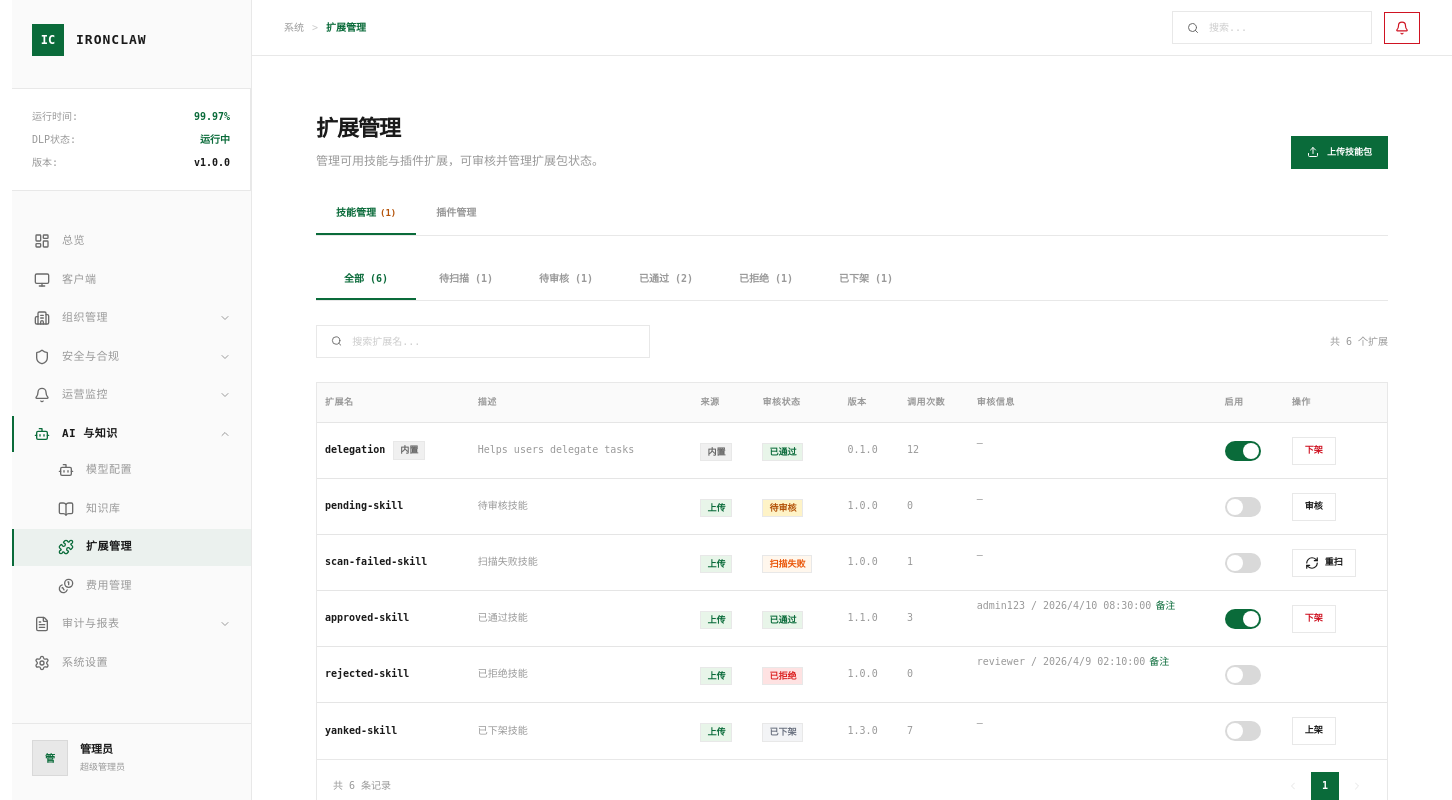
Scenario: 扩展管理 › 审核过滤 Tab › 待扫描过滤应仅显示 scanning/scan_failed 项
Click the button "待扫描 (1)": (466, 280) 416,260 -> 516,300
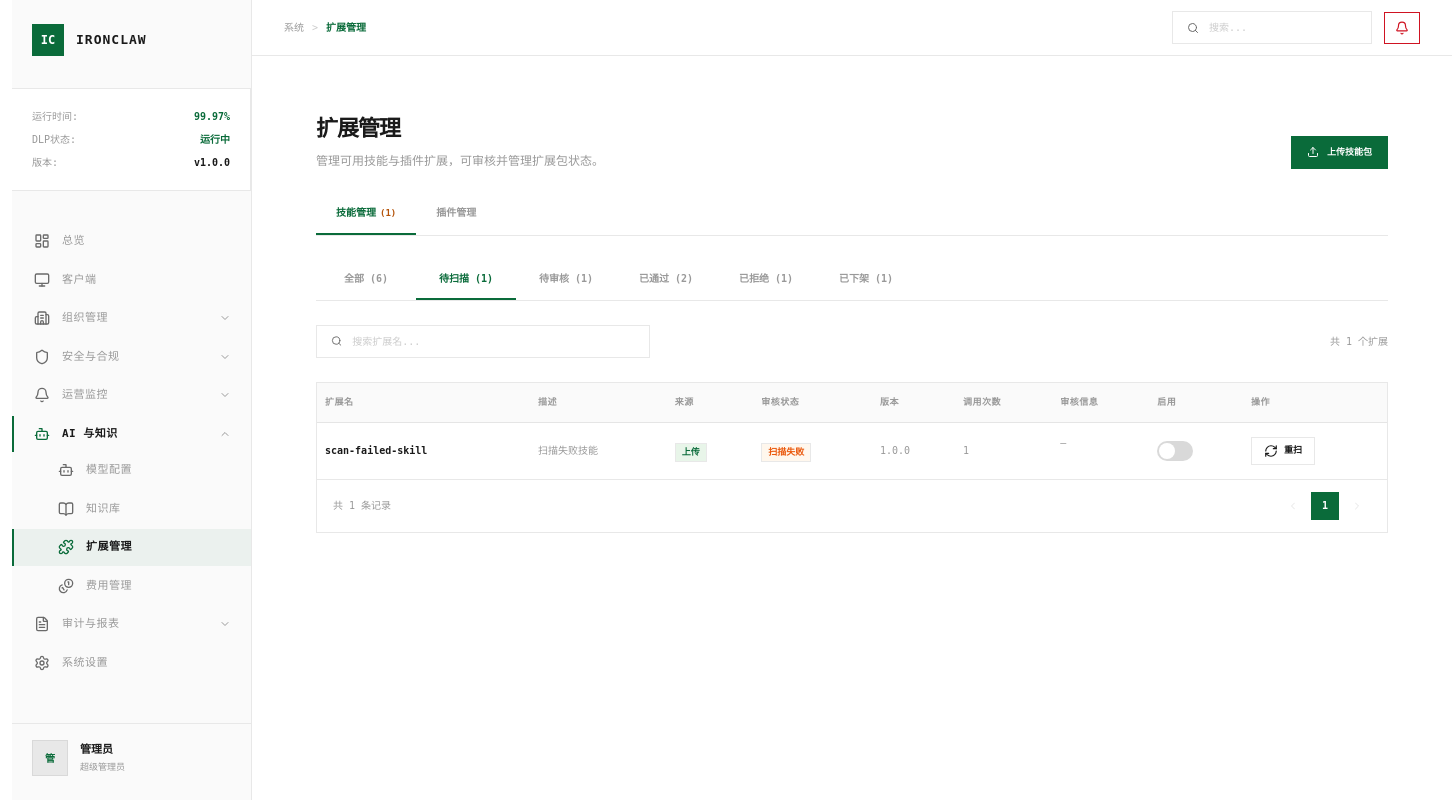
Expected: the text "scan-failed-skill" is shown, 325,445 -> 427,456
Expected: the text "pending-skill" is gone
Expected: the text "approved-skill" is gone
